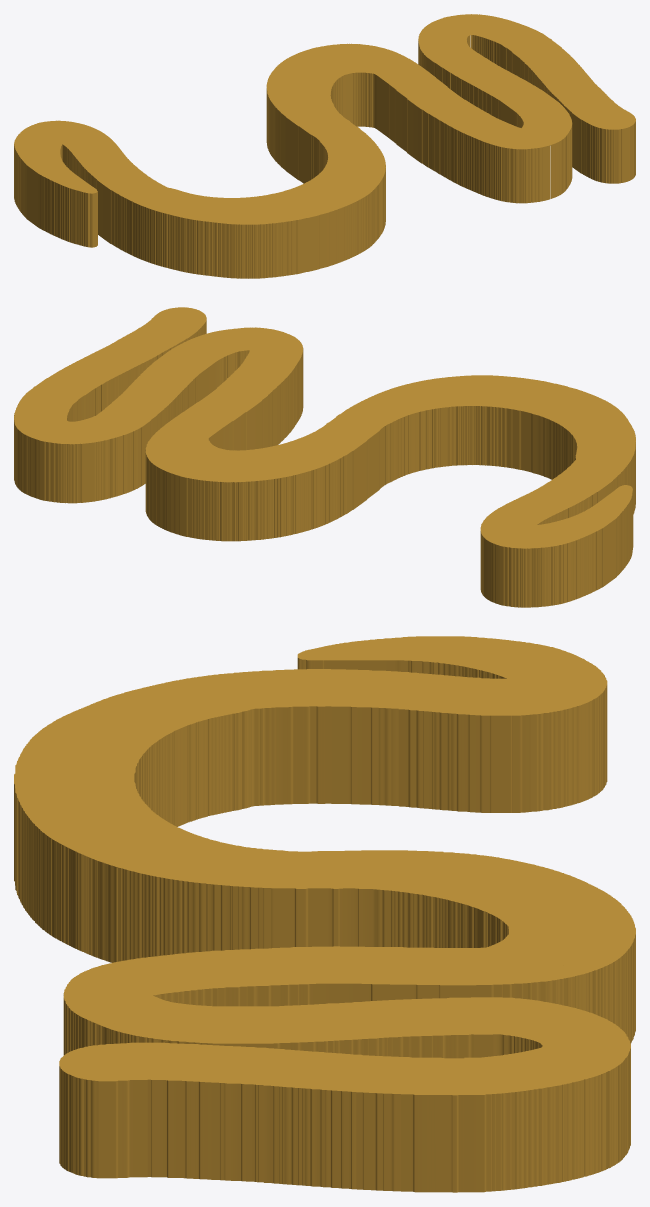
3 views of the same model, one above another, from view 1: azimuth 30°, elevation 25°; view 2: azimuth 150°, elevation 25°; view 3: azimuth 270°, elevation 25° (orthographic). The views are drawn at different scales.
Visible parts, largest first — view 1: Curve; view 2: Curve; view 3: Curve.
Part boxes in pixels (x1,y1,x2,y2): Curve: [14, 14, 635, 278]; Curve: [14, 307, 635, 607]; Curve: [14, 636, 635, 1192].
Size of the model in its own units: 107 by 10.59 by 61.36.
